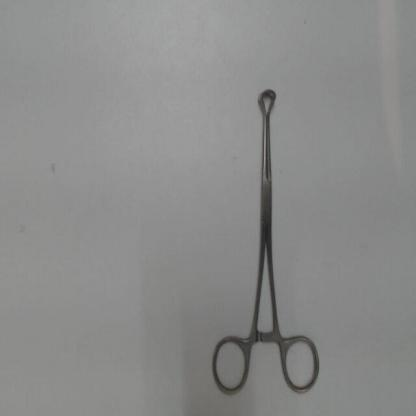Babcock Tissue Forceps: (209, 80, 324, 397)
